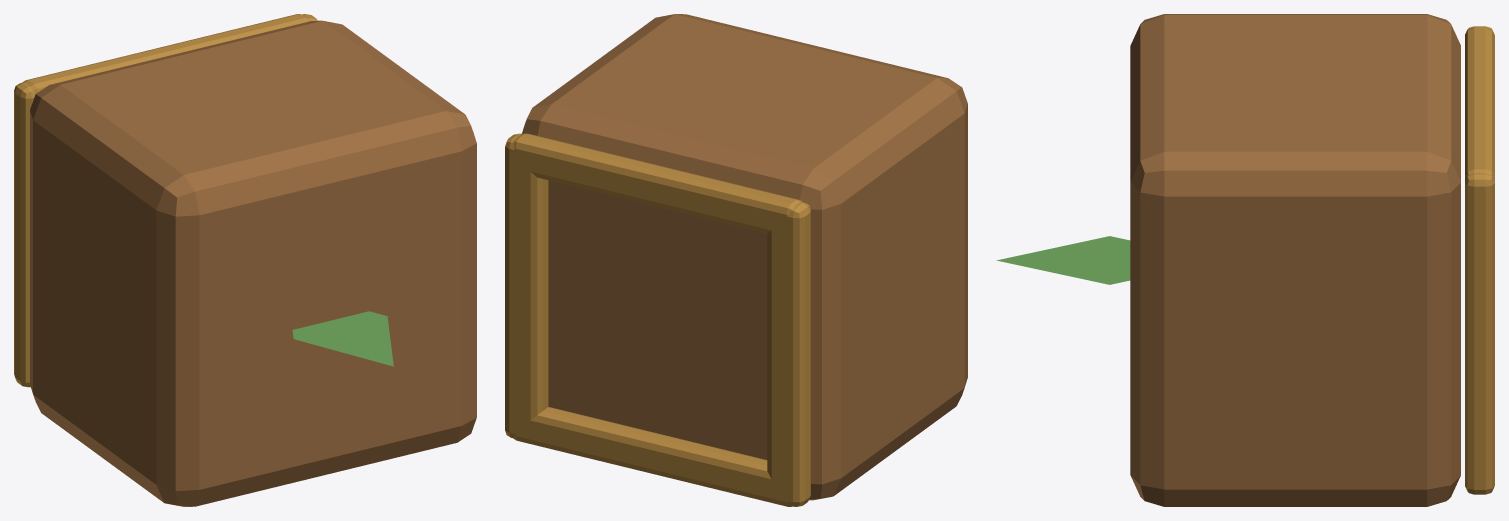
The model's file is hargold_block.glb.
3 views of the same model, side by side, from view 1: azimuth 30°, elevation 25°; view 2: azimuth 150°, elevation 25°; view 3: azimuth 270°, elevation 25° (orthographic). The views are drawn at different scales.
Parts seen in each view (by area): view 1: HargoldBlockCore, HeavyCorner_-0.43, HargoldLeafEmblem, HeavyBand_0.92; view 2: HargoldBlockCore, HeavyCorner_-0.43, HeavyCorner_0.43, HeavyBand_0.92, HeavyBand_0.08; view 3: HargoldBlockCore, HeavyCorner_0.43, HeavyBand_0.92, HargoldLeafEmblem.
Boxes of the visible parts, bbox=[...] form: HargoldBlockCore: bbox=[30, 20, 476, 506]; HeavyCorner_-0.43: bbox=[14, 82, 35, 387]; HargoldLeafEmblem: bbox=[292, 311, 393, 366]; HeavyBand_0.92: bbox=[22, 14, 311, 93]; HargoldBlockCore: bbox=[522, 14, 967, 500]; HeavyCorner_-0.43: bbox=[767, 202, 810, 506]; HeavyCorner_0.43: bbox=[505, 133, 548, 438]; HeavyBand_0.92: bbox=[513, 133, 802, 233]; HeavyBand_0.08: bbox=[513, 407, 792, 506]; HargoldBlockCore: bbox=[1130, 14, 1460, 506]; HeavyCorner_0.43: bbox=[1465, 173, 1494, 494]; HeavyBand_0.92: bbox=[1465, 28, 1494, 179]; HargoldLeafEmblem: bbox=[996, 236, 1130, 284].
Bounding box in the file's own units: 1.04 × 1.04 × 1.33.
